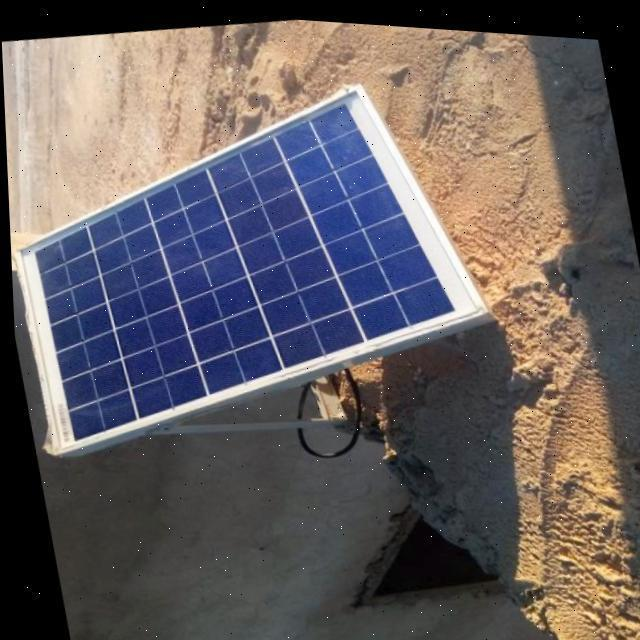Normal Solar Panel: (2, 49, 504, 480)
